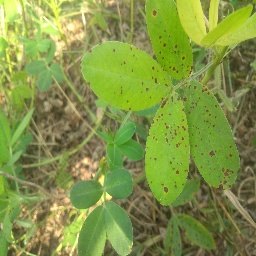GroundNut_Leaf: (189, 79, 239, 191), (75, 41, 174, 93), (146, 92, 188, 206), (197, 4, 256, 49), (143, 1, 192, 39), (175, 213, 217, 250), (108, 202, 133, 255), (78, 210, 106, 255), (70, 179, 103, 209), (105, 169, 134, 199), (1, 109, 11, 173), (114, 123, 137, 146), (108, 146, 121, 168), (40, 72, 52, 91), (28, 61, 46, 72), (34, 40, 49, 52)
